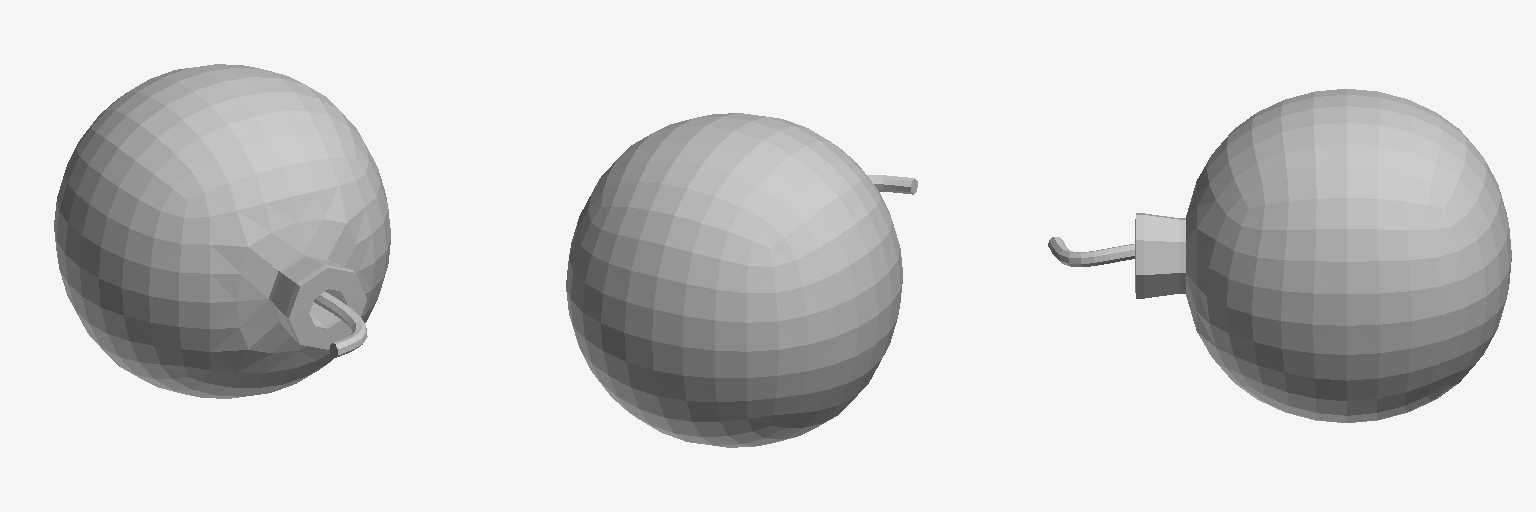
The model's file is Bomb.obj.
3 views of the same model, side by side, from view 1: azimuth 30°, elevation 25°; view 2: azimuth 150°, elevation 25°; view 3: azimuth 270°, elevation 25° (orthographic).
Visible parts, largest first — view 1: Bomb; view 2: Bomb; view 3: Bomb.
Boxes of the visible parts, x1,y1,x2,y2 form: Bomb: [54, 64, 390, 398]; Bomb: [566, 113, 917, 447]; Bomb: [1048, 89, 1511, 422].
Bounding box in the file's own units: 0.3 × 0.3 × 0.4211.